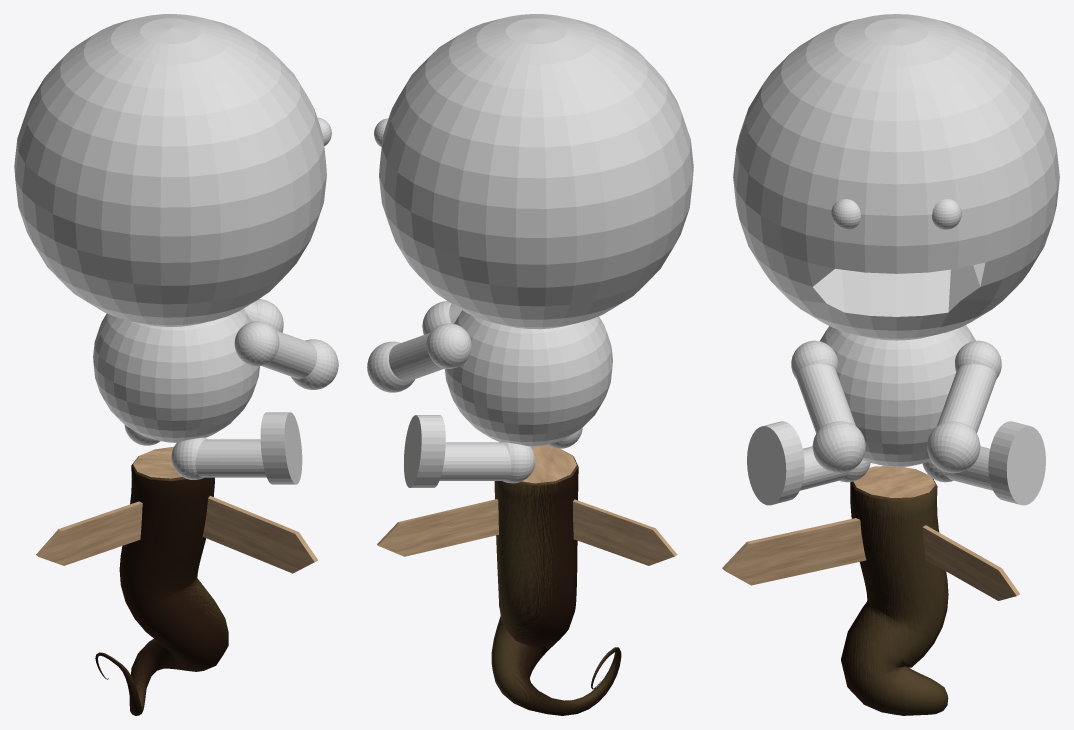
3 renders of one model, left to right at view 1: azimuth 30°, elevation 25°; view 2: azimuth 150°, elevation 25°; view 3: azimuth 270°, elevation 25°, orthographic. The views are drawn at different scales.
Parts seen in each view (by area): view 1: head, ベジエカーブ.002, Body, 平面.001, 平面.002, 円柱.004, 円柱.002, sholder R, 円柱, 球.002, leg R, 球.003; view 2: head, ベジエカーブ.002, Body, 平面, 平面.002, 円柱.005, 円柱.003, sholder L, 円柱.001, 球.003, Leg L, 球.002; view 3: head, ベジエカーブ.002, Body, 平面.001, 円柱.004, 円柱.005, 平面, 円柱.001, 円柱, 球.003, 球.002, sholder R (+5 smaller).
Part boxes in pixels (x1,y1,x2,y2): head: (14,14,326,326); ベジエカーブ.002: (95,446,228,715); Body: (93,309,259,442); 平面.001: (202,496,317,573); 平面.002: (36,501,142,565); 円柱.004: (260,412,302,484); 円柱.002: (195,439,266,477); sholder R: (234,321,279,366); 円柱: (262,330,316,378); 球.002: (291,339,338,389); leg R: (171,437,207,479); 球.003: (255,299,283,332); head: (379,14,693,329); ベジエカーブ.002: (491,445,621,715); Body: (444,310,612,446); 平面: (377,499,498,556); 平面.002: (573,499,677,565); 円柱.005: (404,415,445,487); 円柱.003: (439,442,511,480); sholder L: (426,323,471,368); 円柱.001: (389,332,444,381); 球.003: (367,341,414,392); Leg L: (499,441,535,483); 球.002: (422,301,451,334); head: (733,14,1059,340); ベジエカーブ.002: (841,466,948,715); Body: (820,325,975,467); 平面.001: (722,518,866,585); 円柱.004: (747,421,804,505); 円柱.005: (988,421,1045,505); 平面: (922,525,1019,600); 円柱.001: (937,364,996,433); 円柱: (796,364,855,433); 球.003: (927,421,980,473); 球.002: (812,421,865,473); sholder R: (791,340,838,378).
Size of the model in its own units: 3.76 by 8.85 by 3.86.
3 materials, 3 textured.
